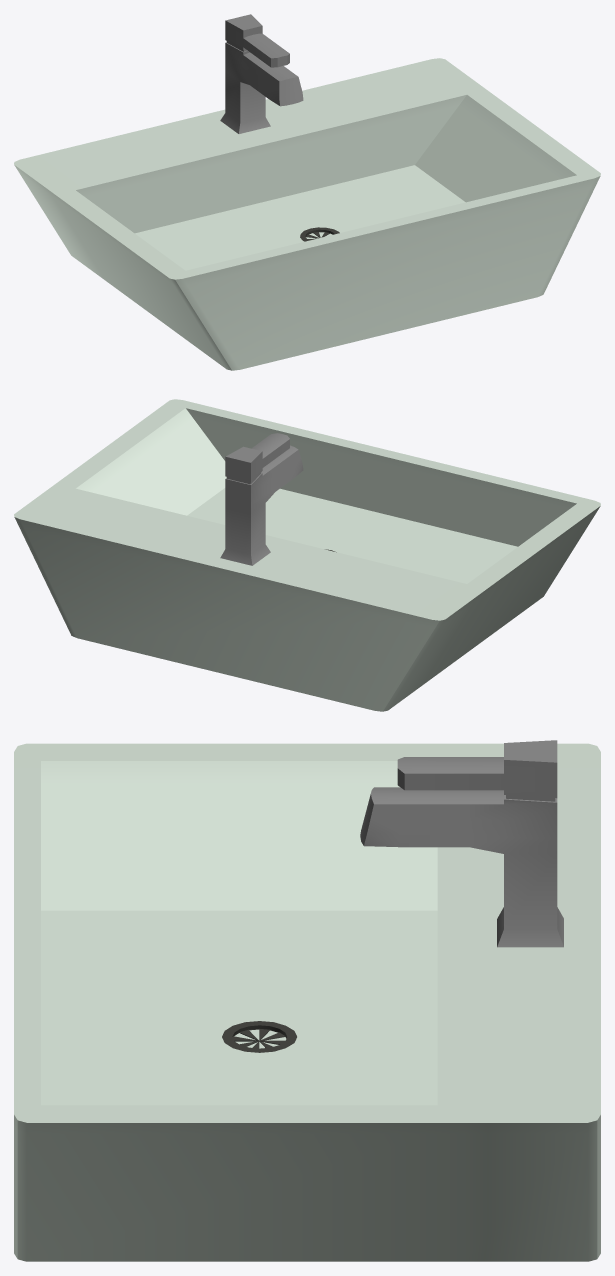
Rendered from Lavabo.fbx.
3 views of the same model, one above another, from view 1: azimuth 30°, elevation 25°; view 2: azimuth 150°, elevation 25°; view 3: azimuth 270°, elevation 25° (orthographic). The views are drawn at different scales.
Parts seen in each view (by area): view 1: Lavabo; view 2: Lavabo; view 3: Lavabo.
Part boxes in pixels (box(x1,y1,x2,y2)): Lavabo: box(14, 14, 600, 370); Lavabo: box(14, 399, 600, 711); Lavabo: box(14, 740, 600, 1261).
Size of the model in its own units: 200 by 91.24 by 131.
